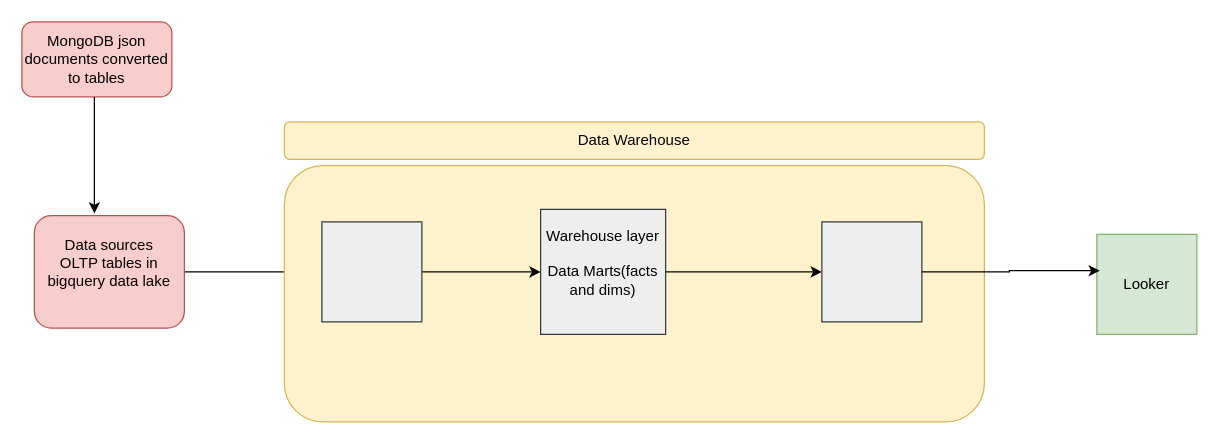
Some shapes in this 1219 by 444 pixel diagram are drawn without their labels. The shapes that lost their labels are listed below. From the top down, each one's box as (x1, y1, x2, y2) in pixels, then its label:
(321, 221, 422, 322): Staging Layer
(821, 221, 922, 322): OBT layer
